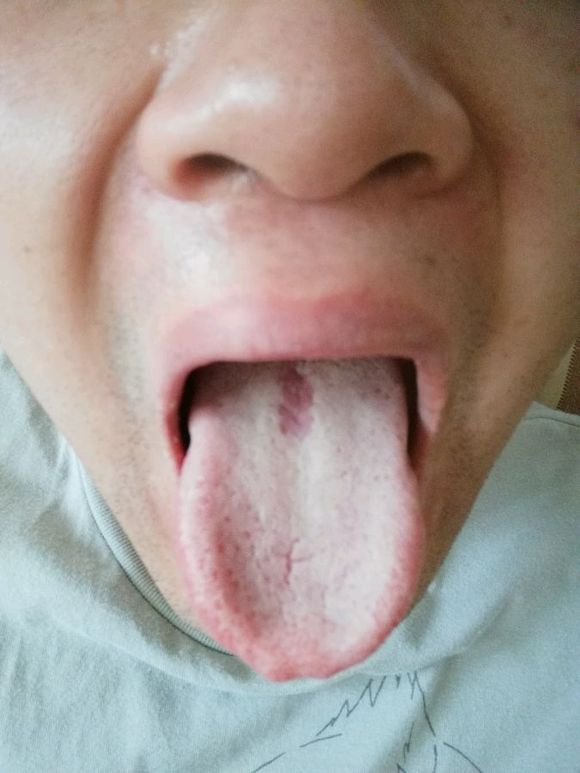baitaishe: (175, 357, 427, 679)
botaishe: (263, 361, 324, 443)
